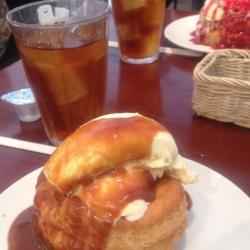icecream: (37, 106, 205, 194)
